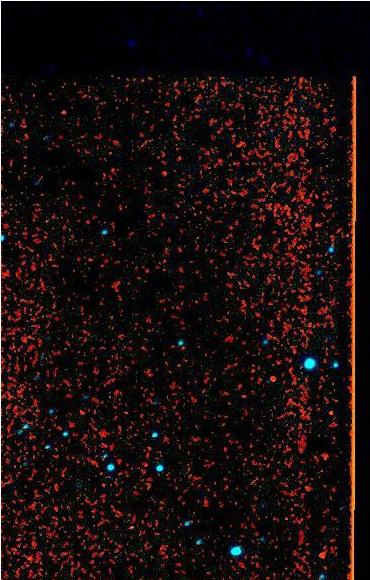star: (49, 98, 79, 128)
